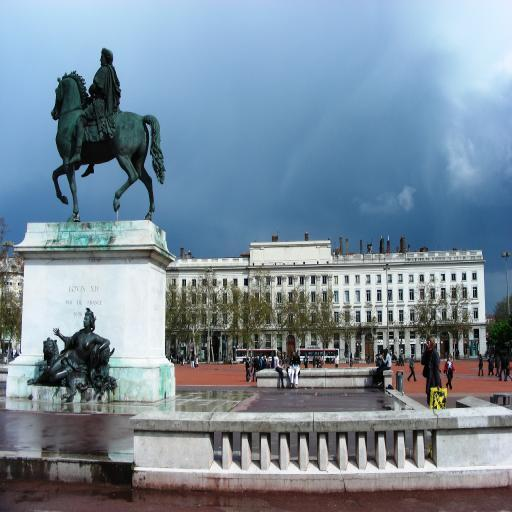Horse: (49, 68, 168, 222)
